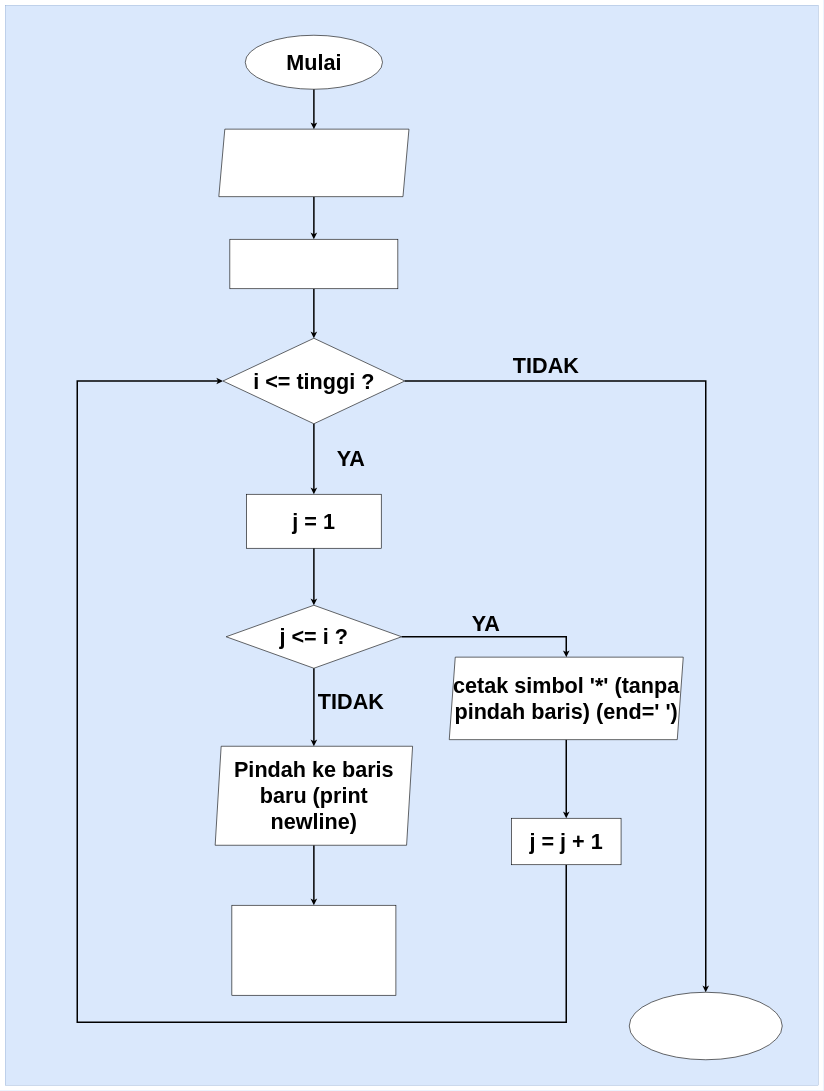
Image size: 824x1091. Some labels were removed from this diagram. The shapes that lost their labels are listed below. From the top down, each one's centre as x and y in pixels, then its label:
At pixel 313 163: "Masukkan nilai tinggi segitiga".
At pixel 313 264: "i = 1".
At pixel 313 950: "i = i + 1".
At pixel 705 1026: "Selesai".
